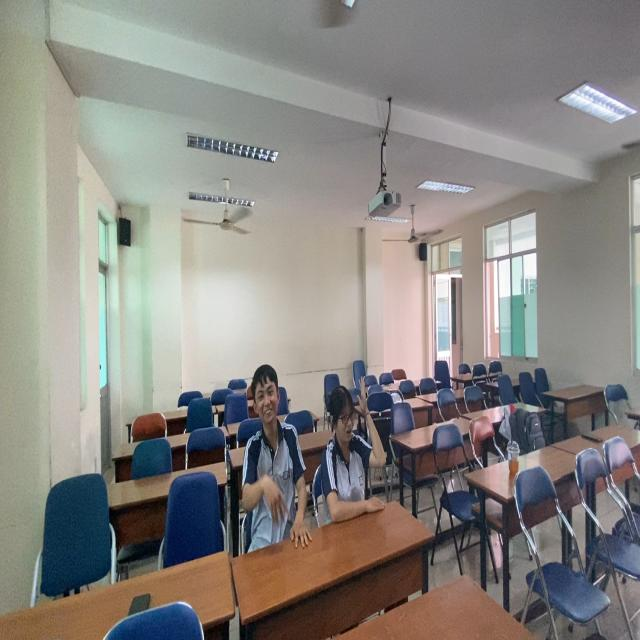raise_hand: (318, 370, 390, 531)
